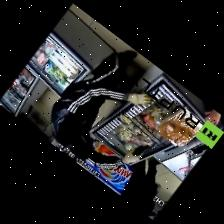person: (50, 49, 151, 168), (121, 157, 159, 215), (203, 102, 223, 125)
